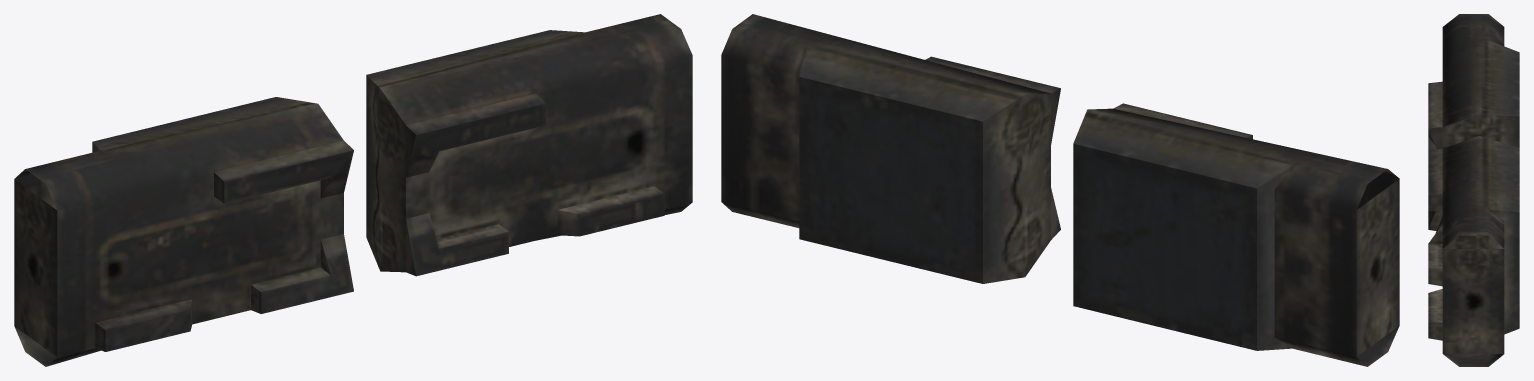
3 renders of one model, left to right at view 1: azimuth 30°, elevation 25°; view 2: azimuth 150°, elevation 25°; view 3: azimuth 270°, elevation 25°, orthographic. The views are drawn at different scales.
Visible parts, largest first — view 1: set_0_group_0; view 2: set_0_group_0; view 3: set_0_group_0.
Boxes of the visible parts, x1,y1,x2,y2 form: set_0_group_0: (14,14,692,366); set_0_group_0: (721,14,1399,366); set_0_group_0: (1428,14,1519,366).
Bounding box in the file's own units: 0.5375 × 0.1479 × 0.0937.
Materials: 1 (1 with a texture image).
